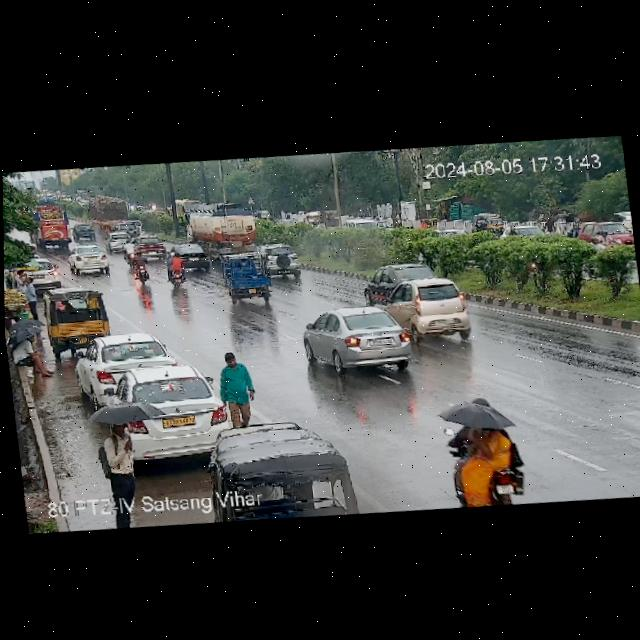bus: (25, 202, 70, 248)
car: (211, 408, 358, 523), (111, 359, 236, 471), (303, 296, 424, 382), (370, 271, 480, 348), (77, 328, 173, 397), (41, 283, 116, 351), (220, 250, 276, 305), (566, 215, 634, 253), (7, 253, 61, 290), (258, 238, 302, 282), (362, 261, 398, 306), (70, 242, 112, 275), (173, 240, 214, 273), (498, 219, 551, 242), (132, 234, 169, 262), (472, 210, 505, 237), (72, 222, 99, 243), (115, 219, 143, 238), (301, 210, 325, 227), (323, 209, 339, 229)
motorcycle: (442, 392, 526, 510), (163, 249, 186, 293), (131, 251, 153, 285), (589, 227, 613, 245), (419, 218, 428, 229)
person: (216, 348, 261, 434), (100, 402, 155, 452), (16, 273, 42, 316), (545, 216, 555, 236)
truck: (186, 203, 258, 250), (88, 194, 128, 231)
